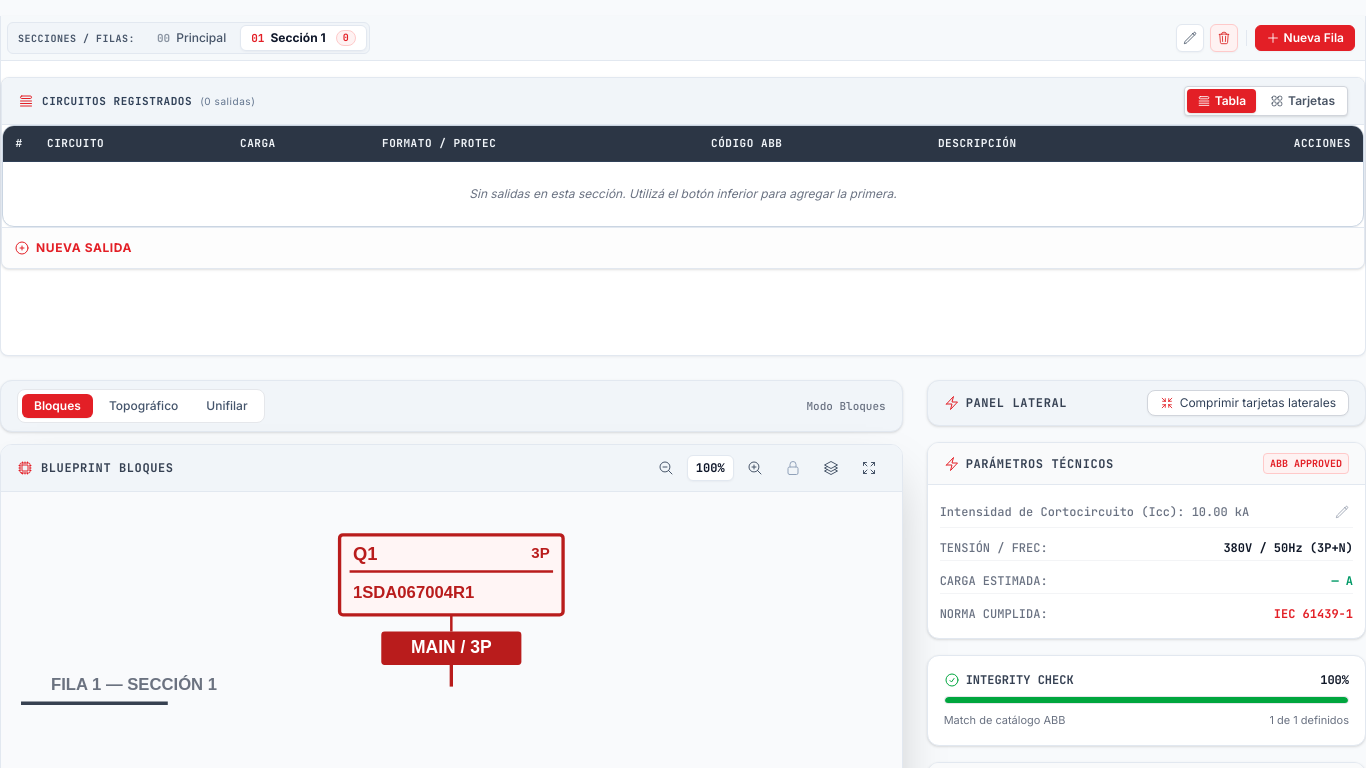
Test: DetalleTablero › closes the nivel de falla modal with Escape directly without saving
expect the tab "01 Sección 1 0" is shown: met, box [240,25,367,51]
Click the button named "editar intensidad de cortocircuito" at (1342, 512), box [1331,501,1353,523]
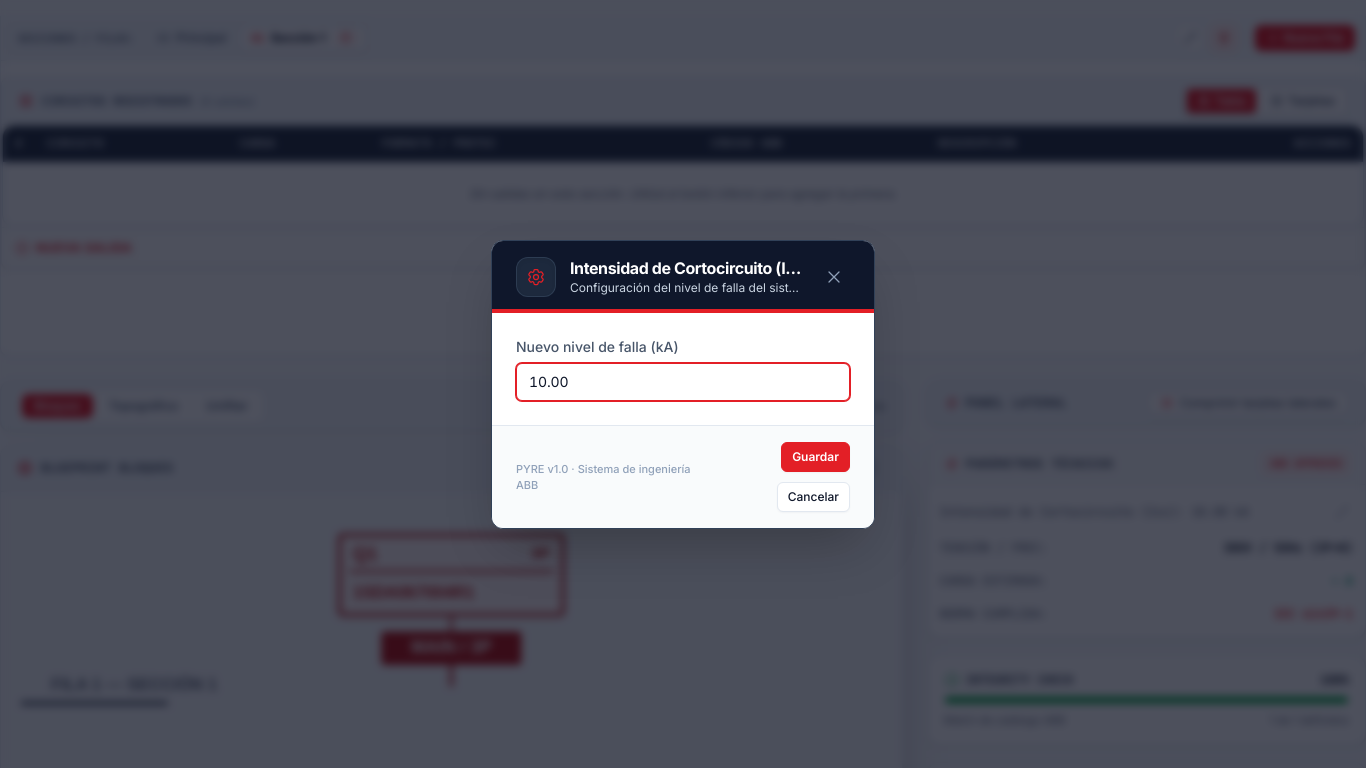
expect the dialog is shown: met, box [491,240,875,528]
Press Escape
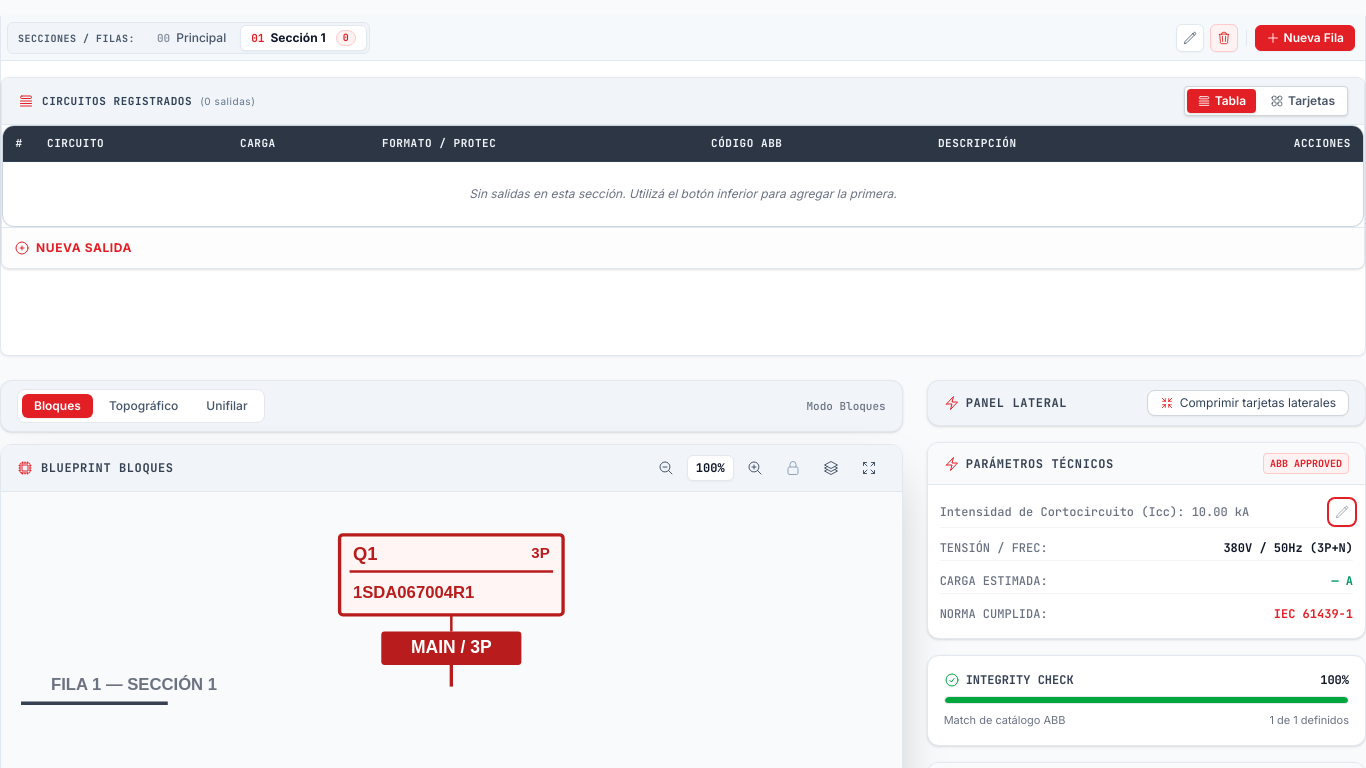
expect the dialog is gone: met
